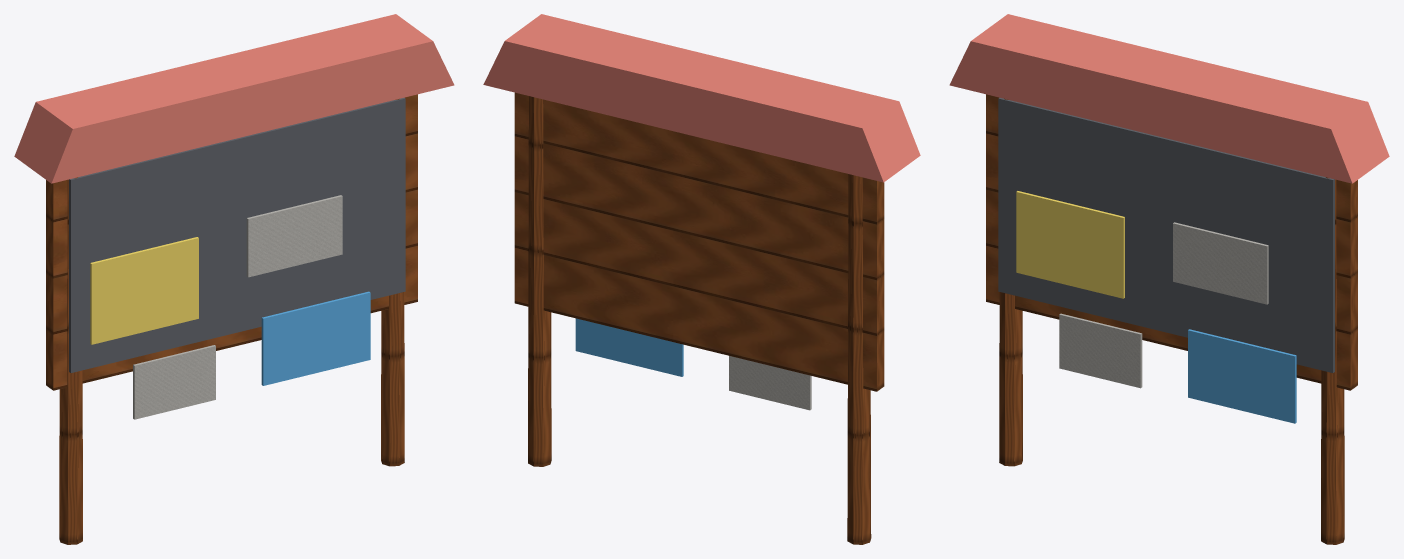
The model's file is park-sign.glb.
3 views of the same model, side by side, from view 1: azimuth 30°, elevation 25°; view 2: azimuth 150°, elevation 25°; view 3: azimuth 330°, elevation 25° (orthographic).
Visible parts, largest first — view 1: park-notice-board-charcoal, park-notice-board-poppy, park-notice-board-timber, park-notice-board-paving, park-notice-board-sunflower, park-notice-board-azure; view 2: park-notice-board-timber, park-notice-board-poppy, park-notice-board-azure, park-notice-board-paving; view 3: park-notice-board-charcoal, park-notice-board-poppy, park-notice-board-timber, park-notice-board-paving, park-notice-board-sunflower, park-notice-board-azure.
Boxes of the visible parts, box(x1,y1,x2,y2) form: park-notice-board-charcoal: box(69, 97, 405, 372); park-notice-board-poppy: box(14, 14, 454, 183); park-notice-board-timber: box(46, 94, 417, 544); park-notice-board-paving: box(133, 195, 342, 419); park-notice-board-sunflower: box(90, 237, 198, 344); park-notice-board-azure: box(261, 291, 370, 385); park-notice-board-timber: box(514, 92, 884, 544); park-notice-board-poppy: box(483, 14, 920, 182); park-notice-board-azure: box(575, 318, 683, 376); park-notice-board-paving: box(729, 356, 811, 410); park-notice-board-charcoal: box(998, 97, 1334, 372); park-notice-board-poppy: box(949, 14, 1389, 183); park-notice-board-timber: box(986, 94, 1357, 544); park-notice-board-paving: box(1059, 222, 1268, 388); park-notice-board-sunflower: box(1016, 191, 1124, 298); park-notice-board-azure: box(1188, 329, 1296, 423).
Size of the model in its own units: 1.88 by 1.92 by 0.3.
6 materials, 2 textured.
